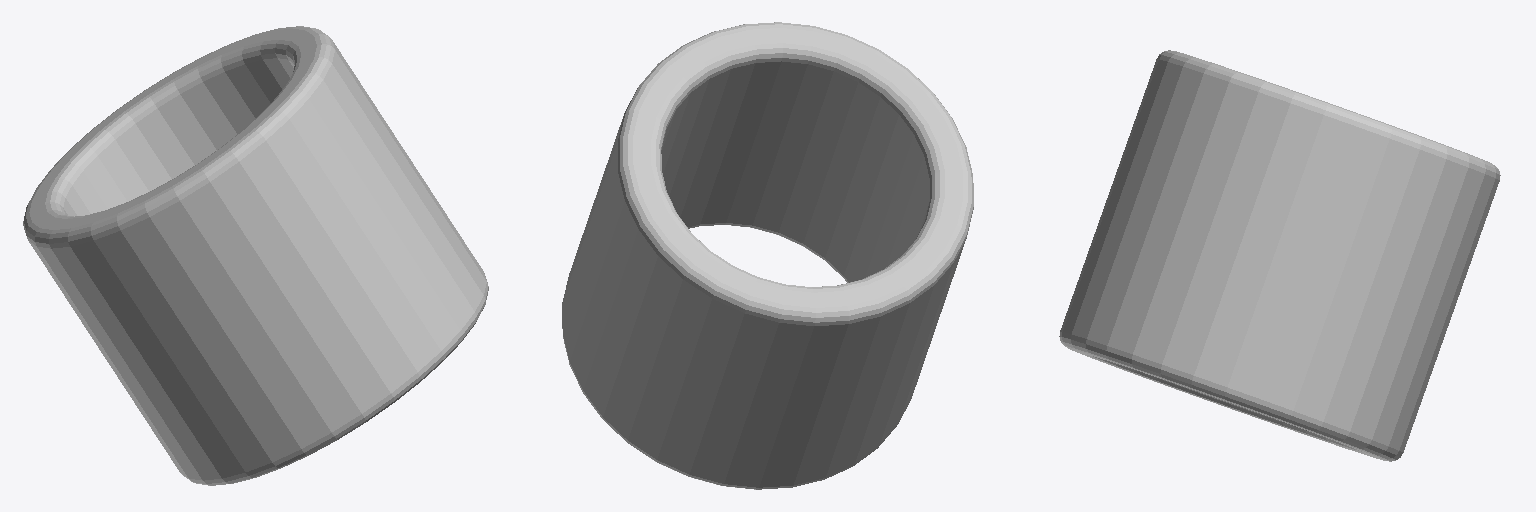
The model's file is tube_blue.obj.
3 renders of one model, left to right at view 1: azimuth 30°, elevation 25°; view 2: azimuth 150°, elevation 25°; view 3: azimuth 270°, elevation 25°, orthographic.
Parts seen in each view (by area): view 1: 000_Tube; view 2: 000_Tube; view 3: 000_Tube.
Part boxes in pixels (x1,y1,x2,y2): 000_Tube: (23, 26, 488, 485); 000_Tube: (562, 22, 973, 489); 000_Tube: (1059, 50, 1500, 461).
Bounding box in the file's own units: 161 × 159 × 156.